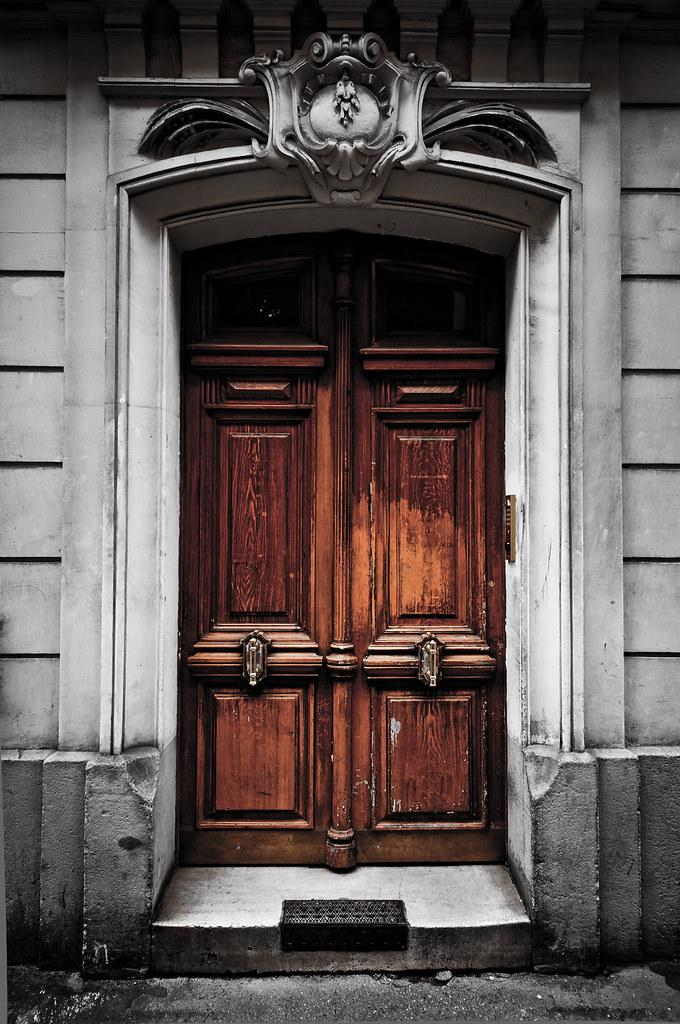door: (178, 230, 510, 871)
